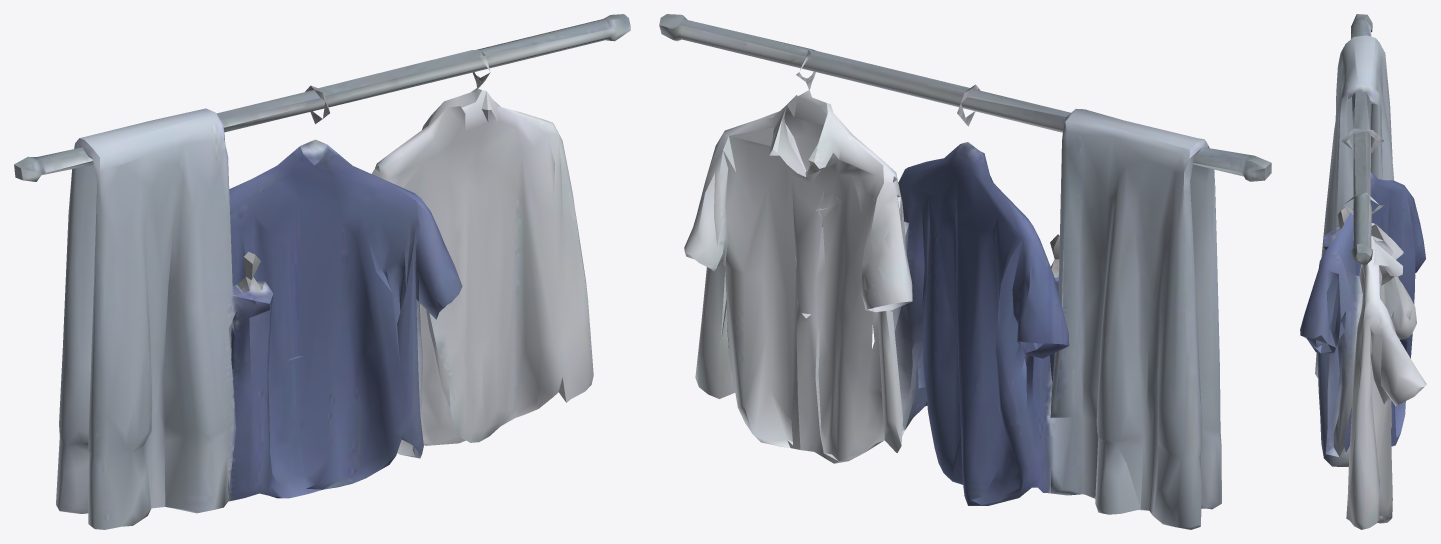
Rendered from laundry.glb.
3 views of the same model, side by side, from view 1: azimuth 30°, elevation 25°; view 2: azimuth 150°, elevation 25°; view 3: azimuth 270°, elevation 25° (orthographic). The views are drawn at different scales.
Parts seen in each view (by area): view 1: laundry; view 2: laundry; view 3: laundry.
Part boxes in pixels (<box>): laundry: <box>14,14,630,529</box>; laundry: <box>659,14,1271,529</box>; laundry: <box>1300,14,1426,529</box>.
Bounding box in the file's own units: 1.5 × 0.9498 × 0.3332.
1 material, 1 textured.
